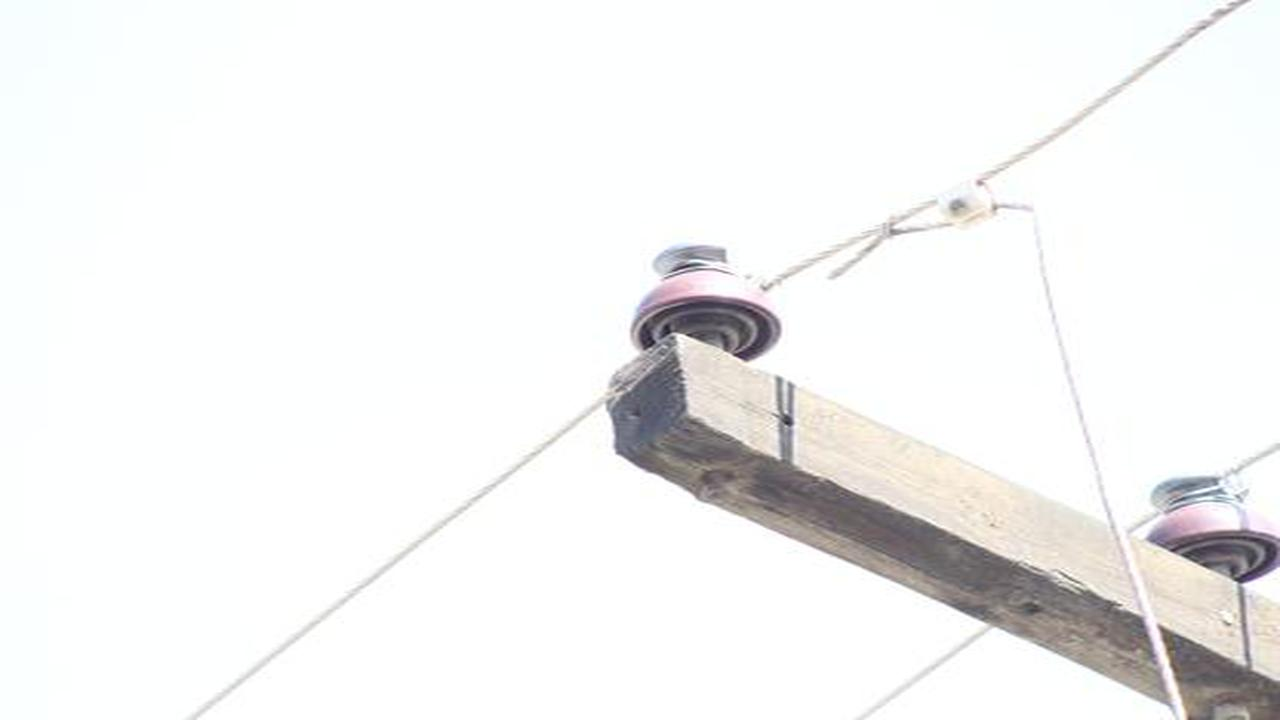insulator_pin: (624, 238, 786, 359), (1140, 472, 1269, 572)
